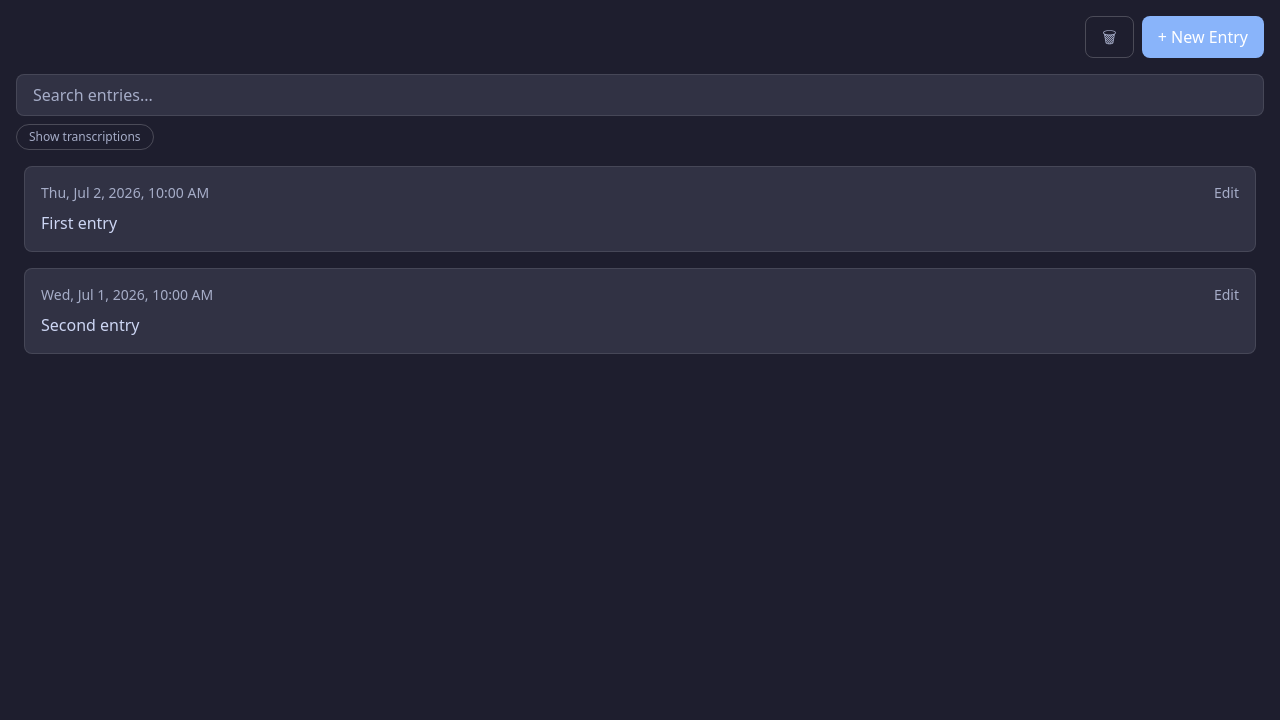
Test: Journal edit-mode recording › stages the clip instead of writing into the draft
Expected: the text "First entry" is shown, [41, 212, 117, 234]
Press KeyD
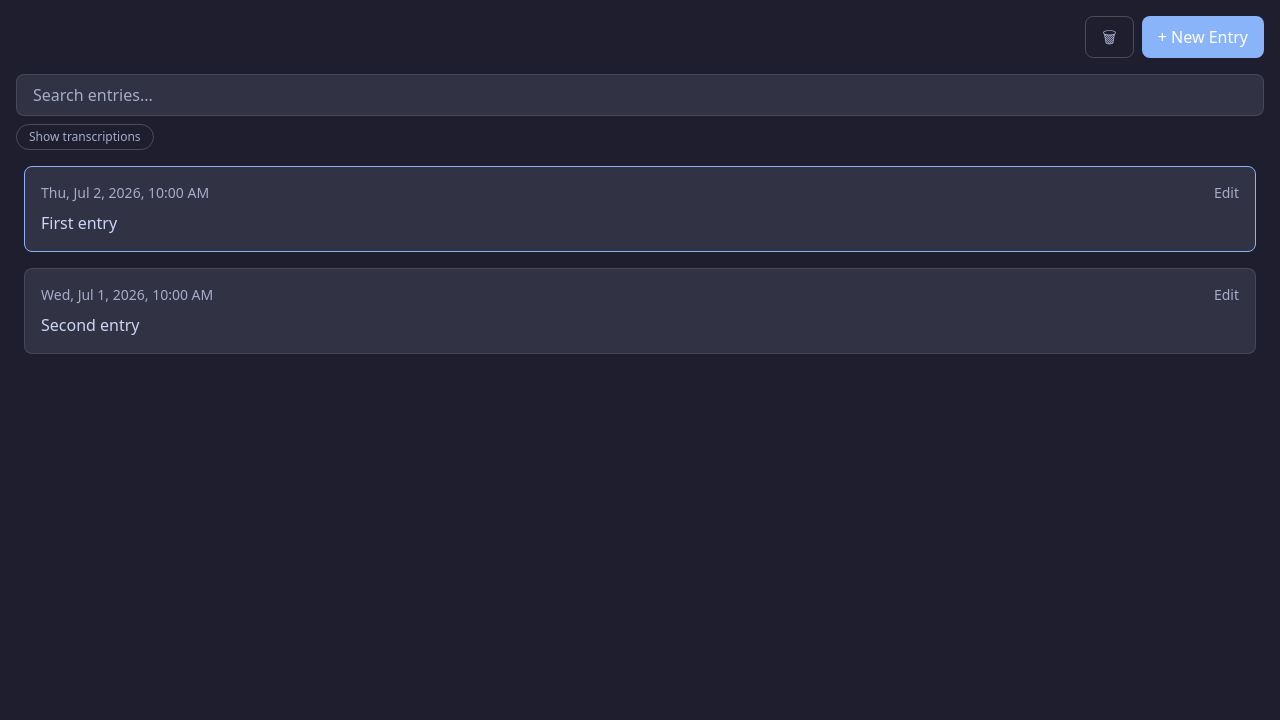
Press KeyD
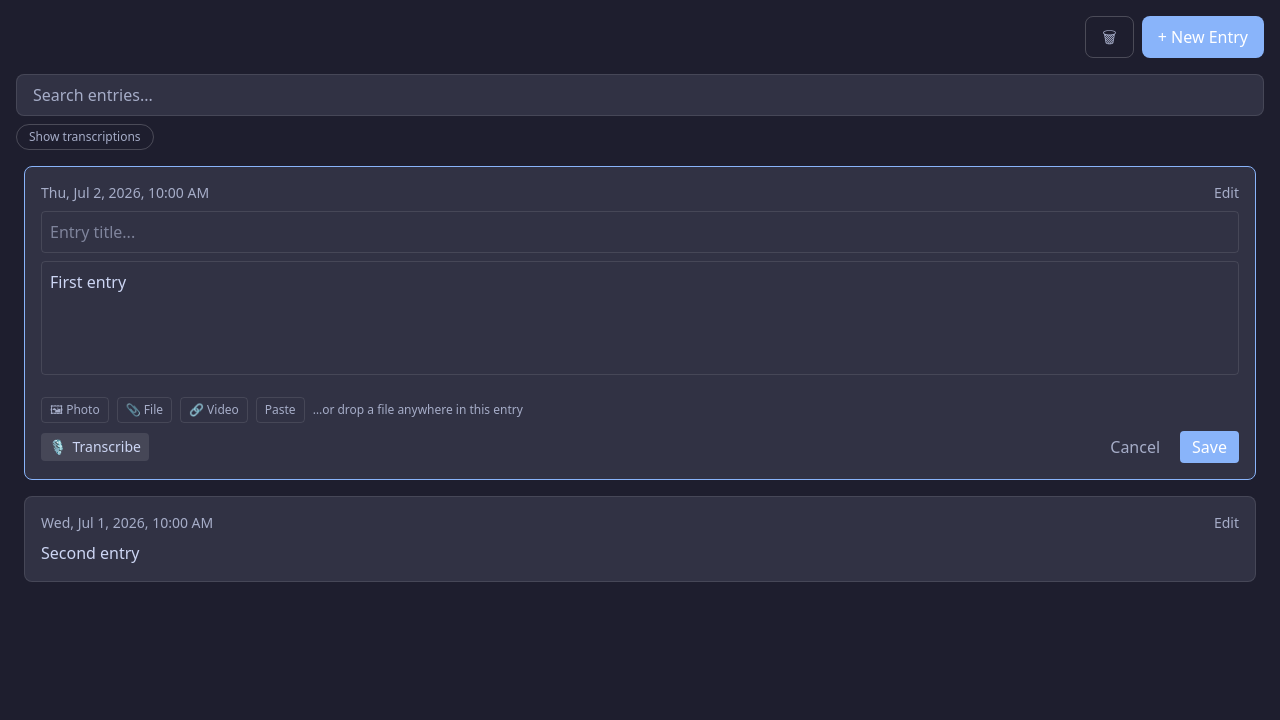
Click the button labelled "🎙️ Transcribe": (95,447) [41, 433, 149, 461]
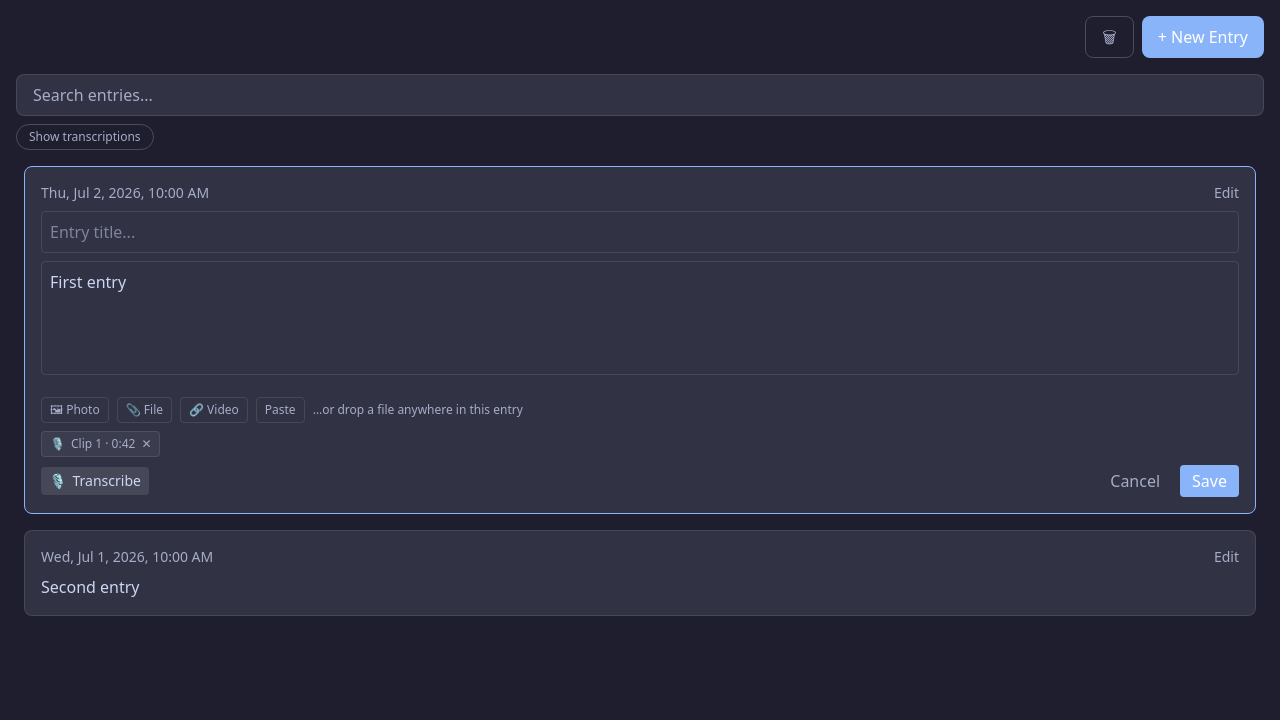
Expected: the text box showing "First entry" holds "First entry", [41, 261, 1239, 375]
Expected: the text "Clip 1 · 0:42" is shown, [71, 436, 135, 452]
